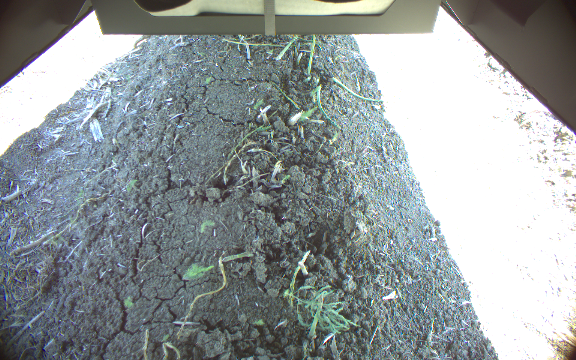aspa: (306, 292, 326, 340), (306, 34, 319, 76), (294, 259, 310, 277)
